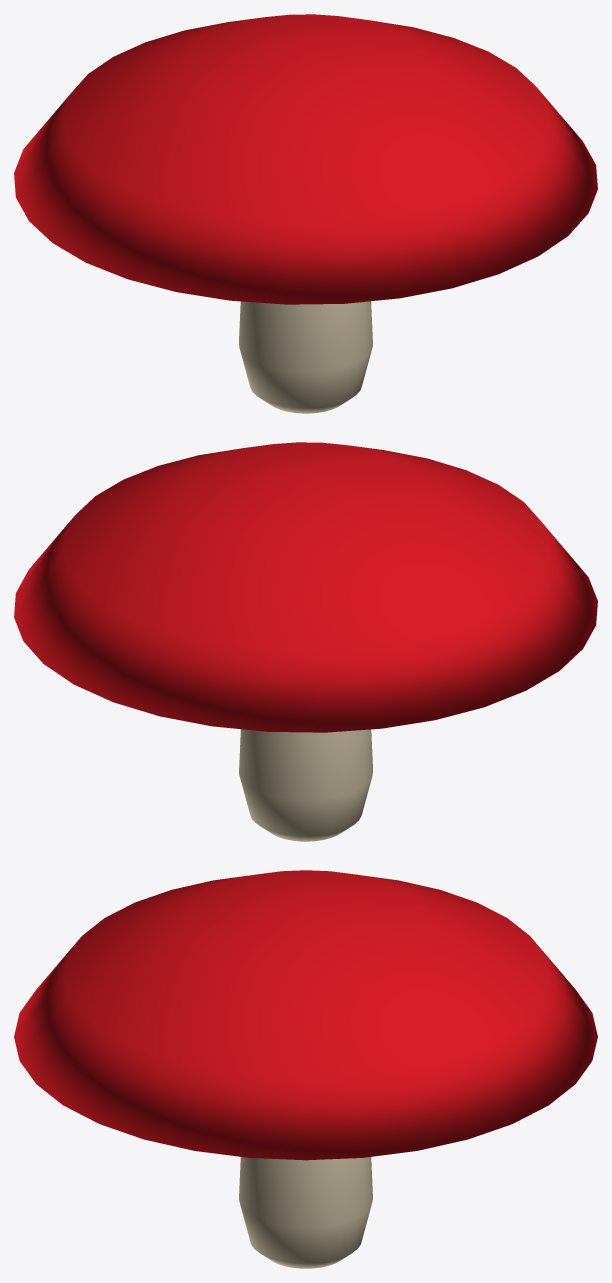
Rendered from champi65.fbx.
3 views of the same model, one above another, from view 1: azimuth 30°, elevation 25°; view 2: azimuth 150°, elevation 25°; view 3: azimuth 270°, elevation 25° (orthographic).
Visible parts, largest first — view 1: Circle; view 2: Circle; view 3: Circle.
Part boxes in pixels (x1,y1,x2,y2): Circle: [14, 14, 597, 413]; Circle: [14, 442, 597, 841]; Circle: [14, 870, 597, 1268].
Bounding box in the file's own units: 242 × 160 × 242.
